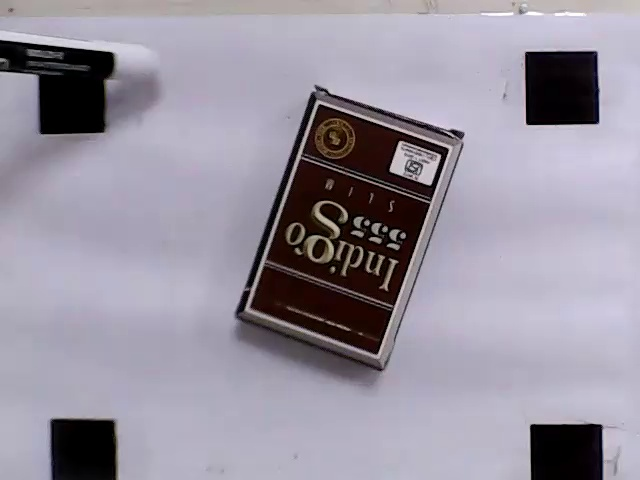BEX: (247, 103, 450, 358)
